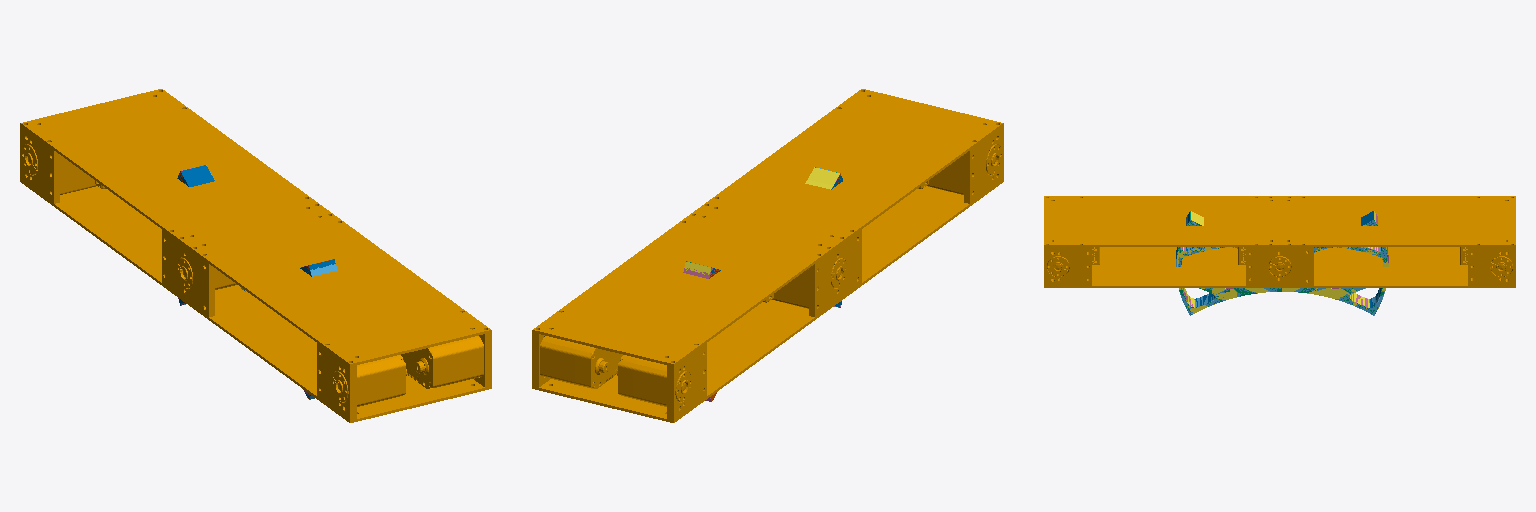
robot.urdf — mini_v2:
<?xml version="1.0" encoding="utf-8"?>
<robot name="mini_v2">
	<link name="body:1">
		<inertial>
			<mass value="0.9533169092019325"/>
			<origin rpy="0 0 0" xyz="-0.0023929470676165897 -0.0021725441997112083 0.021003927420524503"/>
			<inertia ixx="0.020559559996089737" ixy="3.3917108457061034e-05" ixz="4.9467342499998067e-11" iyy="0.0014099703570064903" iyz="-2.0389245847241e-17" izz="0.021425010549233726"/>
		</inertial>
		<collision name="body:1_collision">
			<origin rpy="0.0 -0.0 0.0" xyz="0.0 0.0 0.0"/>
			<geometry>
				<mesh filename="./meshes/body.stl" scale="1.0 1.0 1.0"/>
			</geometry>
		</collision>
		<visual name="body:1_visual">
			<origin rpy="0.0 -0.0 0.0" xyz="0.0 0.0 0.0"/>
			<geometry>
				<mesh filename="./meshes/body.stl" scale="1.0 1.0 1.0"/>
			</geometry>
		</visual>
	</link>
	<link name="wheel_v1:1">
		<inertial>
			<mass value="0.13185481519048178"/>
			<origin rpy="0 0 0" xyz="0.015860279132881322 4.075333190356467e-08 0.00027520756297638727"/>
			<inertia ixx="0.00047207900178906855" ixy="4.717638333318064e-11" ixz="-1.0749872538151627e-08" iyy="7.798785116531493e-05" iyz="3.353751278662998e-08" izz="0.000403292043827976"/>
		</inertial>
		<collision name="wheel_v1:1_collision">
			<origin rpy="-3.1415926535897927 5.352439387238647e-06 1.5707963267948963" xyz="0.016000000000000042 0.0 -1.3877787807814457e-17"/>
			<geometry>
				<mesh filename="./meshes/wheel_v1.stl" scale="1.0 1.0 1.0"/>
			</geometry>
		</collision>
		<visual name="wheel_v1:1_visual">
			<origin rpy="-3.1415926535897927 5.352439387238647e-06 1.5707963267948963" xyz="0.016000000000000042 0.0 -1.3877787807814457e-17"/>
			<geometry>
				<mesh filename="./meshes/wheel_v1.stl" scale="1.0 1.0 1.0"/>
			</geometry>
		</visual>
	</link>
	<link name="wheel_v1:2">
		<inertial>
			<mass value="0.13185481519048178"/>
			<origin rpy="0 0 0" xyz="0.015860279132881266 4.075333189359001e-08 0.00027520756297641155"/>
			<inertia ixx="0.0004720790017890674" ixy="4.717638291962256e-11" ixz="-1.074987253810722e-08" iyy="7.798785116531493e-05" iyz="3.353751278648981e-08" izz="0.00040329204382797475"/>
		</inertial>
		<collision name="wheel_v1:2_collision">
			<origin rpy="3.141592653589793 5.3524393869531926e-06 1.570796326794896" xyz="0.015999999999999986 -9.974659986866641e-18 1.0408340855860843e-17"/>
			<geometry>
				<mesh filename="./meshes/wheel_v1.stl" scale="1.0 1.0 1.0"/>
			</geometry>
		</collision>
		<visual name="wheel_v1:2_visual">
			<origin rpy="3.141592653589793 5.3524393869531926e-06 1.570796326794896" xyz="0.015999999999999986 -9.974659986866641e-18 1.0408340855860843e-17"/>
			<geometry>
				<mesh filename="./meshes/wheel_v1.stl" scale="1.0 1.0 1.0"/>
			</geometry>
		</visual>
	</link>
	<link name="wheel_v1:3">
		<inertial>
			<mass value="0.13185481519048178"/>
			<origin rpy="0 0 0" xyz="0.015860279132881294 4.035296491400331e-08 0.00027520756303540256"/>
			<inertia ixx="0.00047207900178906784" ixy="4.719202166825198e-11" ixz="-1.0749872469495436e-08" iyy="7.798785106842381e-05" iyz="3.3064266123528085e-08" izz="0.0004032920439248663"/>
		</inertial>
		<collision name="wheel_v1:3_collision">
			<origin rpy="3.141592653589793 3.897657451946651e-06 1.570796326794896" xyz="0.016000000000000014 0.0 6.938893903907228e-18"/>
			<geometry>
				<mesh filename="./meshes/wheel_v1.stl" scale="1.0 1.0 1.0"/>
			</geometry>
		</collision>
		<visual name="wheel_v1:3_visual">
			<origin rpy="3.141592653589793 3.897657451946651e-06 1.570796326794896" xyz="0.016000000000000014 0.0 6.938893903907228e-18"/>
			<geometry>
				<mesh filename="./meshes/wheel_v1.stl" scale="1.0 1.0 1.0"/>
			</geometry>
		</visual>
	</link>
	<link name="wheel_v1:4">
		<inertial>
			<mass value="0.13185481519048178"/>
			<origin rpy="0 0 0" xyz="-0.015860279132881287 -4.0753331875809096e-08 0.0002752075629764046"/>
			<inertia ixx="0.00047207900178906855" ixy="4.717638333318064e-11" ixz="1.0749872538085014e-08" iyy="7.798785116531484e-05" iyz="-3.353751278734052e-08" izz="0.0004032920438279746"/>
		</inertial>
		<collision name="wheel_v1:4_collision">
			<origin rpy="3.1415926535897927 5.352439389628187e-06 -1.5707963267948963" xyz="-0.016000000000000007 5.551115123125783e-17 3.469446951953614e-18"/>
			<geometry>
				<mesh filename="./meshes/wheel_v1.stl" scale="1.0 1.0 1.0"/>
			</geometry>
		</collision>
		<visual name="wheel_v1:4_visual">
			<origin rpy="3.1415926535897927 5.352439389628187e-06 -1.5707963267948963" xyz="-0.016000000000000007 5.551115123125783e-17 3.469446951953614e-18"/>
			<geometry>
				<mesh filename="./meshes/wheel_v1.stl" scale="1.0 1.0 1.0"/>
			</geometry>
		</visual>
	</link>
	<link name="wheel_v1:5">
		<inertial>
			<mass value="0.13185481519048178"/>
			<origin rpy="0 0 0" xyz="-0.015860279132881287 -4.0753331935223375e-08 0.0002752075629764185"/>
			<inertia ixx="0.00047207900178906855" ixy="4.7176384013192244e-11" ixz="1.0749872538040606e-08" iyy="7.798785116531474e-05" iyz="-3.353751278337147e-08" izz="0.000403292043827975"/>
		</inertial>
		<collision name="wheel_v1:5_collision">
			<origin rpy="3.1415926535897922 5.352439377367189e-06 -1.5707963267948943" xyz="-0.016000000000000007 -3.469446951953614e-17 1.734723475976807e-17"/>
			<geometry>
				<mesh filename="./meshes/wheel_v1.stl" scale="1.0 1.0 1.0"/>
			</geometry>
		</collision>
		<visual name="wheel_v1:5_visual">
			<origin rpy="3.1415926535897922 5.352439377367189e-06 -1.5707963267948943" xyz="-0.016000000000000007 -3.469446951953614e-17 1.734723475976807e-17"/>
			<geometry>
				<mesh filename="./meshes/wheel_v1.stl" scale="1.0 1.0 1.0"/>
			</geometry>
		</visual>
	</link>
	<link name="wheel_v1:6">
		<inertial>
			<mass value="0.13185481519048178"/>
			<origin rpy="0 0 0" xyz="-0.015860279132881273 4.035296491400331e-08 -0.00027520756303540256"/>
			<inertia ixx="0.00047207900178906784" ixy="-4.719202202352335e-11" ixz="-1.0749872469473231e-08" iyy="7.798785106842381e-05" iyz="-3.3064266124860355e-08" izz="0.00040329204392486486"/>
		</inertial>
		<collision name="wheel_v1:6_collision">
			<origin rpy="-1.6299912157447345e-16 -3.89765745623565e-06 1.570796326794896" xyz="-0.015999999999999993 0.0 -3.469446951953614e-18"/>
			<geometry>
				<mesh filename="./meshes/wheel_v1.stl" scale="1.0 1.0 1.0"/>
			</geometry>
		</collision>
		<visual name="wheel_v1:6_visual">
			<origin rpy="-1.6299912157447345e-16 -3.89765745623565e-06 1.570796326794896" xyz="-0.015999999999999993 0.0 -3.469446951953614e-18"/>
			<geometry>
				<mesh filename="./meshes/wheel_v1.stl" scale="1.0 1.0 1.0"/>
			</geometry>
		</visual>
	</link>
	<joint name="rev0" type="continuous">
		<parent link="body:1"/>
		<child link="wheel_v1:1"/>
		<origin rpy="0 0 0" xyz="0.05310705293238478 -0.2111725441939708 0.021000000000002853"/>
		<axis xyz="-1.0 1.7279786092434146e-16 6.07088080040448e-16"/>
	</joint>
	<joint name="rev1" type="continuous">
		<parent link="body:1"/>
		<child link="wheel_v1:2"/>
		<origin rpy="0 0 0" xyz="0.053107052932384796 -0.0021725441939931833 0.020999999999997153"/>
		<axis xyz="-1.0 6.345182204642587e-16 -1.6299887019044802e-16"/>
	</joint>
	<joint name="rev2" type="continuous">
		<parent link="body:1"/>
		<child link="wheel_v1:3"/>
		<origin rpy="0 0 0" xyz="0.05310705293238477 0.20682745580597064 0.020999999999997153"/>
		<axis xyz="-1.0 7.153811189269383e-16 -1.6299912157323607e-16"/>
	</joint>
	<joint name="rev3" type="continuous">
		<parent link="body:1"/>
		<child link="wheel_v1:4"/>
		<origin rpy="0 0 0" xyz="-0.057892947067614796 -0.21117254419397086 0.02099999999999716"/>
		<axis xyz="1.0 1.7279786092434242e-16 -6.070880800404476e-16"/>
	</joint>
	<joint name="rev4" type="continuous">
		<parent link="body:1"/>
		<child link="wheel_v1:5"/>
		<origin rpy="0 0 0" xyz="-0.057892947067614796 -0.0021725441939928923 0.020999999999997167"/>
		<axis xyz="1.0 2.1483923308923375e-15 -1.0511772898905496e-15"/>
	</joint>
	<joint name="rev5" type="continuous">
		<parent link="body:1"/>
		<child link="wheel_v1:6"/>
		<origin rpy="0 0 0" xyz="-0.05789294706761481 0.20682745580597073 0.02100000000000283"/>
		<axis xyz="1.0 -6.168865106199634e-16 1.6299912157323533e-16"/>
	</joint>
</robot>

--- Facts derived from the render (not from the file) ---
The picture shows the robot from 3 angles, left to right: view 1: azimuth 30°, elevation 25°; view 2: azimuth 150°, elevation 25°; view 3: azimuth 270°, elevation 25°; orthographic projection.
Robot: mini_v2 — 7 links, 6 joints (6 continuous); root link body:1; default pose: all joints at 0.
Visible links, largest first — view 1: body:1, wheel_v1:4; view 2: body:1, wheel_v1:3; view 3: body:1, wheel_v1:3, wheel_v1:1.
Boxes of the visible links, x1,y1,x2,y2 form: body:1: (20,89,491,422); wheel_v1:4: (178,165,335,398); body:1: (532,89,1003,422); wheel_v1:3: (684,167,839,274); body:1: (1044,196,1515,287); wheel_v1:3: (1177,211,1388,315); wheel_v1:1: (1176,215,1387,315).
Bounding box of the posed robot: 113 × 444 × 100 m (x, y, z).
Meshes: 2 distinct files referenced, 7 mesh visuals loaded (2 binary STL).
